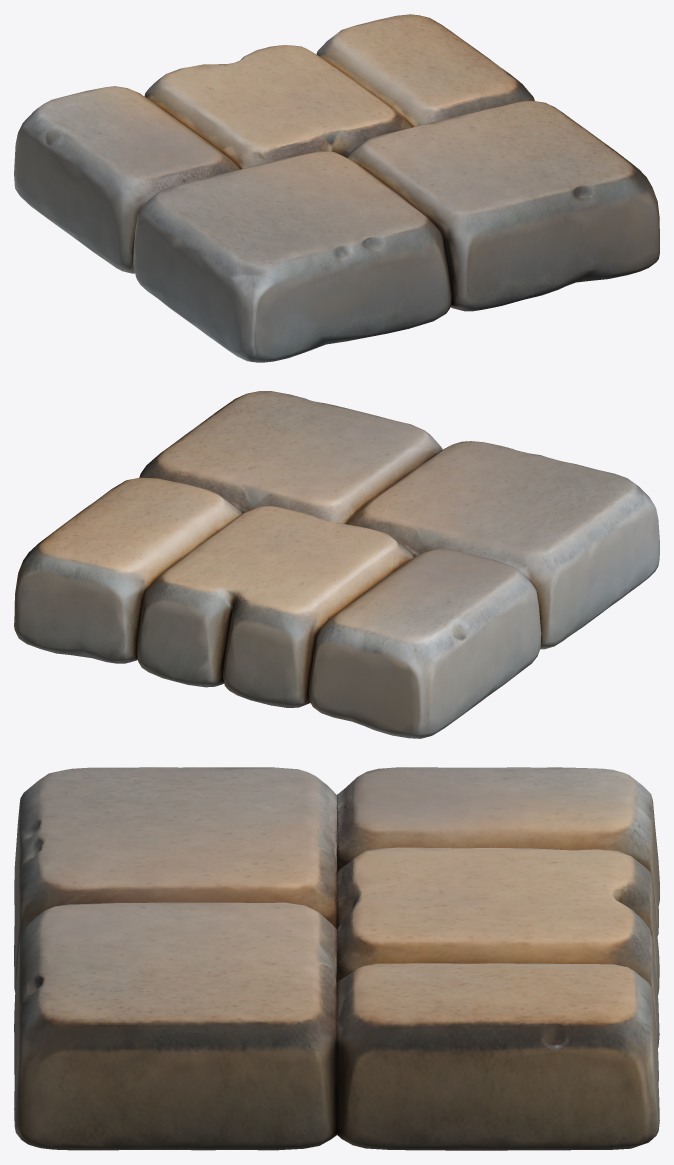
The model's file is 4_Floor34.glb.
The picture shows the model from 3 angles, top to bottom: view 1: azimuth 30°, elevation 25°; view 2: azimuth 150°, elevation 25°; view 3: azimuth 270°, elevation 25°; orthographic projection. The views are drawn at different scales.
Parts seen in each view (by area): view 1: input; view 2: input; view 3: input.
Part boxes in pixels (x1,y1,x2,y2): input: (14,14,659,362); input: (14,391,659,738); input: (14,767,659,1150).
Size of the model in its own units: 0.9997 by 0.2194 by 0.996.
Materials: 1 (1 with a texture image).
